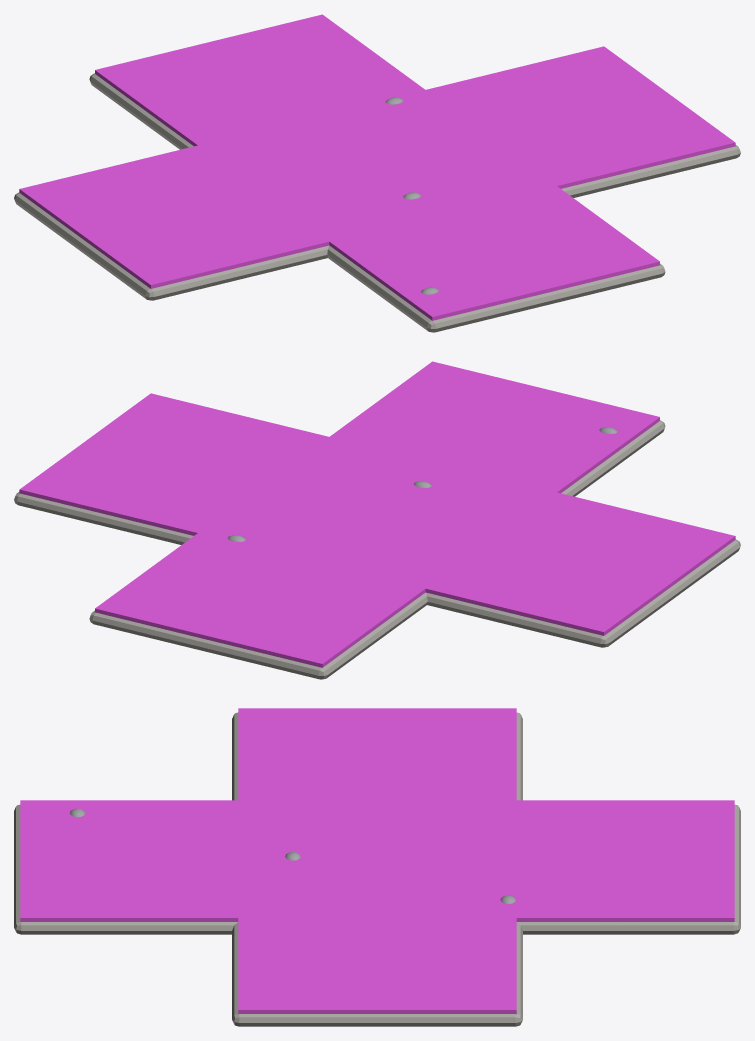
Rendered from forest_path_gravel_junction_lod1_v1.glb.
3 renders of one model, top to bottom at view 1: azimuth 30°, elevation 25°; view 2: azimuth 150°, elevation 25°; view 3: azimuth 270°, elevation 25°, orthographic. The views are drawn at different scales.
Parts seen in each view (by area): view 1: NAV_MASK_FOREST_PATH_GRAVEL_JUNCTION_EW, NAV_MASK_FOREST_PATH_GRAVEL_JUNCTION_NS, LOD1_FOREST_PATH_GRAVEL_JUNCTION_EW, LOD1_FOREST_PATH_GRAVEL_JUNCTION_NS; view 2: NAV_MASK_FOREST_PATH_GRAVEL_JUNCTION_NS, NAV_MASK_FOREST_PATH_GRAVEL_JUNCTION_EW, LOD1_FOREST_PATH_GRAVEL_JUNCTION_EW, LOD1_FOREST_PATH_GRAVEL_JUNCTION_NS; view 3: NAV_MASK_FOREST_PATH_GRAVEL_JUNCTION_NS, NAV_MASK_FOREST_PATH_GRAVEL_JUNCTION_EW, LOD1_FOREST_PATH_GRAVEL_JUNCTION_NS, LOD1_FOREST_PATH_GRAVEL_JUNCTION_EW.
Part boxes in pixels (box(x1,y1,x2,y2)): NAV_MASK_FOREST_PATH_GRAVEL_JUNCTION_EW: box(19, 46, 735, 288); NAV_MASK_FOREST_PATH_GRAVEL_JUNCTION_NS: box(95, 14, 659, 320); LOD1_FOREST_PATH_GRAVEL_JUNCTION_EW: box(14, 145, 740, 300); LOD1_FOREST_PATH_GRAVEL_JUNCTION_NS: box(89, 73, 665, 332); NAV_MASK_FOREST_PATH_GRAVEL_JUNCTION_NS: box(95, 361, 659, 667); NAV_MASK_FOREST_PATH_GRAVEL_JUNCTION_EW: box(19, 393, 735, 635); LOD1_FOREST_PATH_GRAVEL_JUNCTION_EW: box(14, 492, 740, 647); LOD1_FOREST_PATH_GRAVEL_JUNCTION_NS: box(89, 420, 665, 679); NAV_MASK_FOREST_PATH_GRAVEL_JUNCTION_NS: box(20, 800, 734, 921); NAV_MASK_FOREST_PATH_GRAVEL_JUNCTION_EW: box(238, 708, 516, 1014); LOD1_FOREST_PATH_GRAVEL_JUNCTION_NS: box(14, 804, 740, 934); LOD1_FOREST_PATH_GRAVEL_JUNCTION_EW: box(232, 712, 522, 1026).
Size of what is drawn, in the model's own units: 8 by 0.24 by 8.
